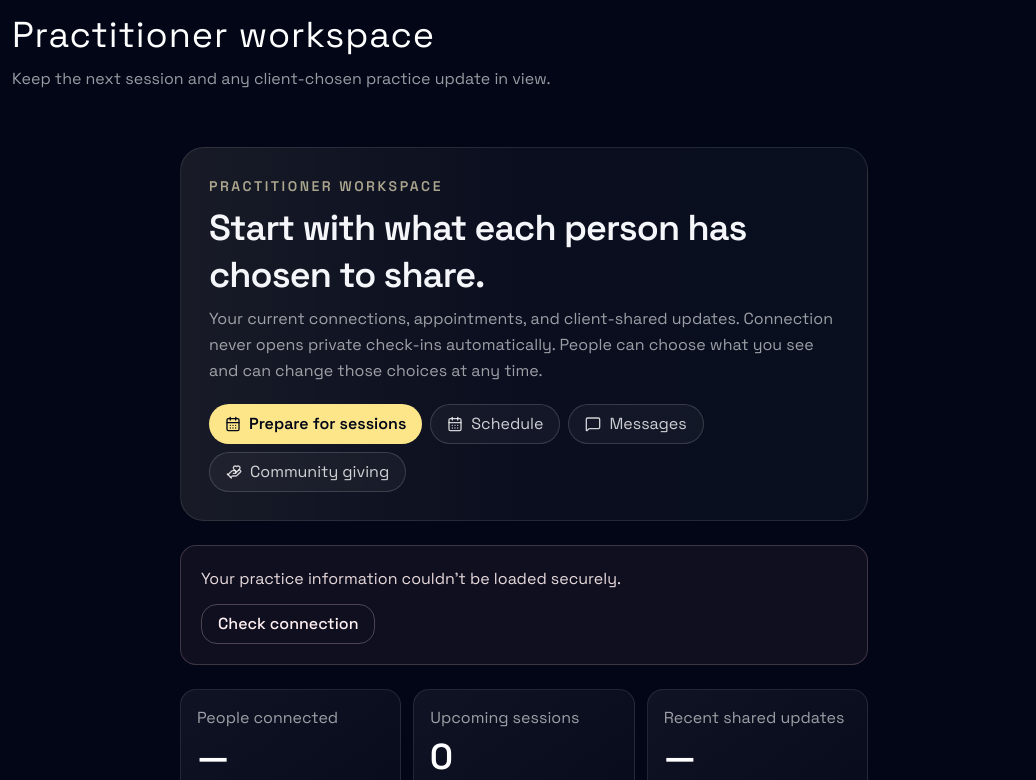
Test: ProviderDashboardPage › stops after one App Check refresh when browser-token acquisition fails
Click the button "Check connection": (288, 624) [201,604,376,644]
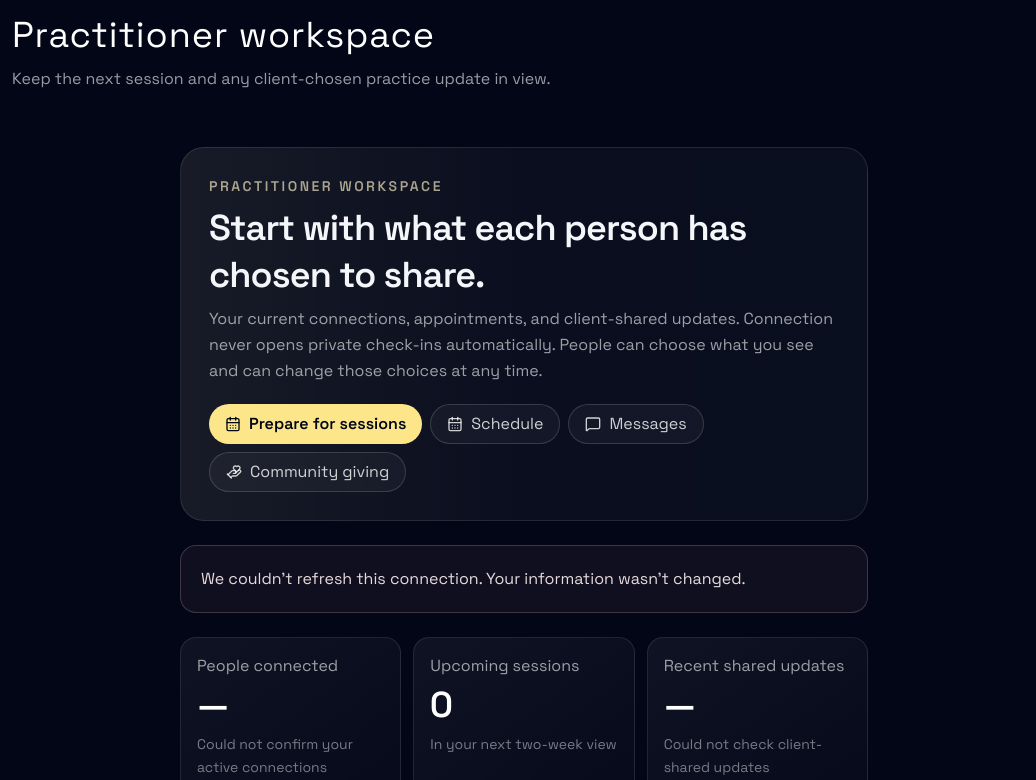
Check: the text "couldn’t refresh this connection" is shown, box [201,568,746,589]
Check: the button "Check connection" is gone
